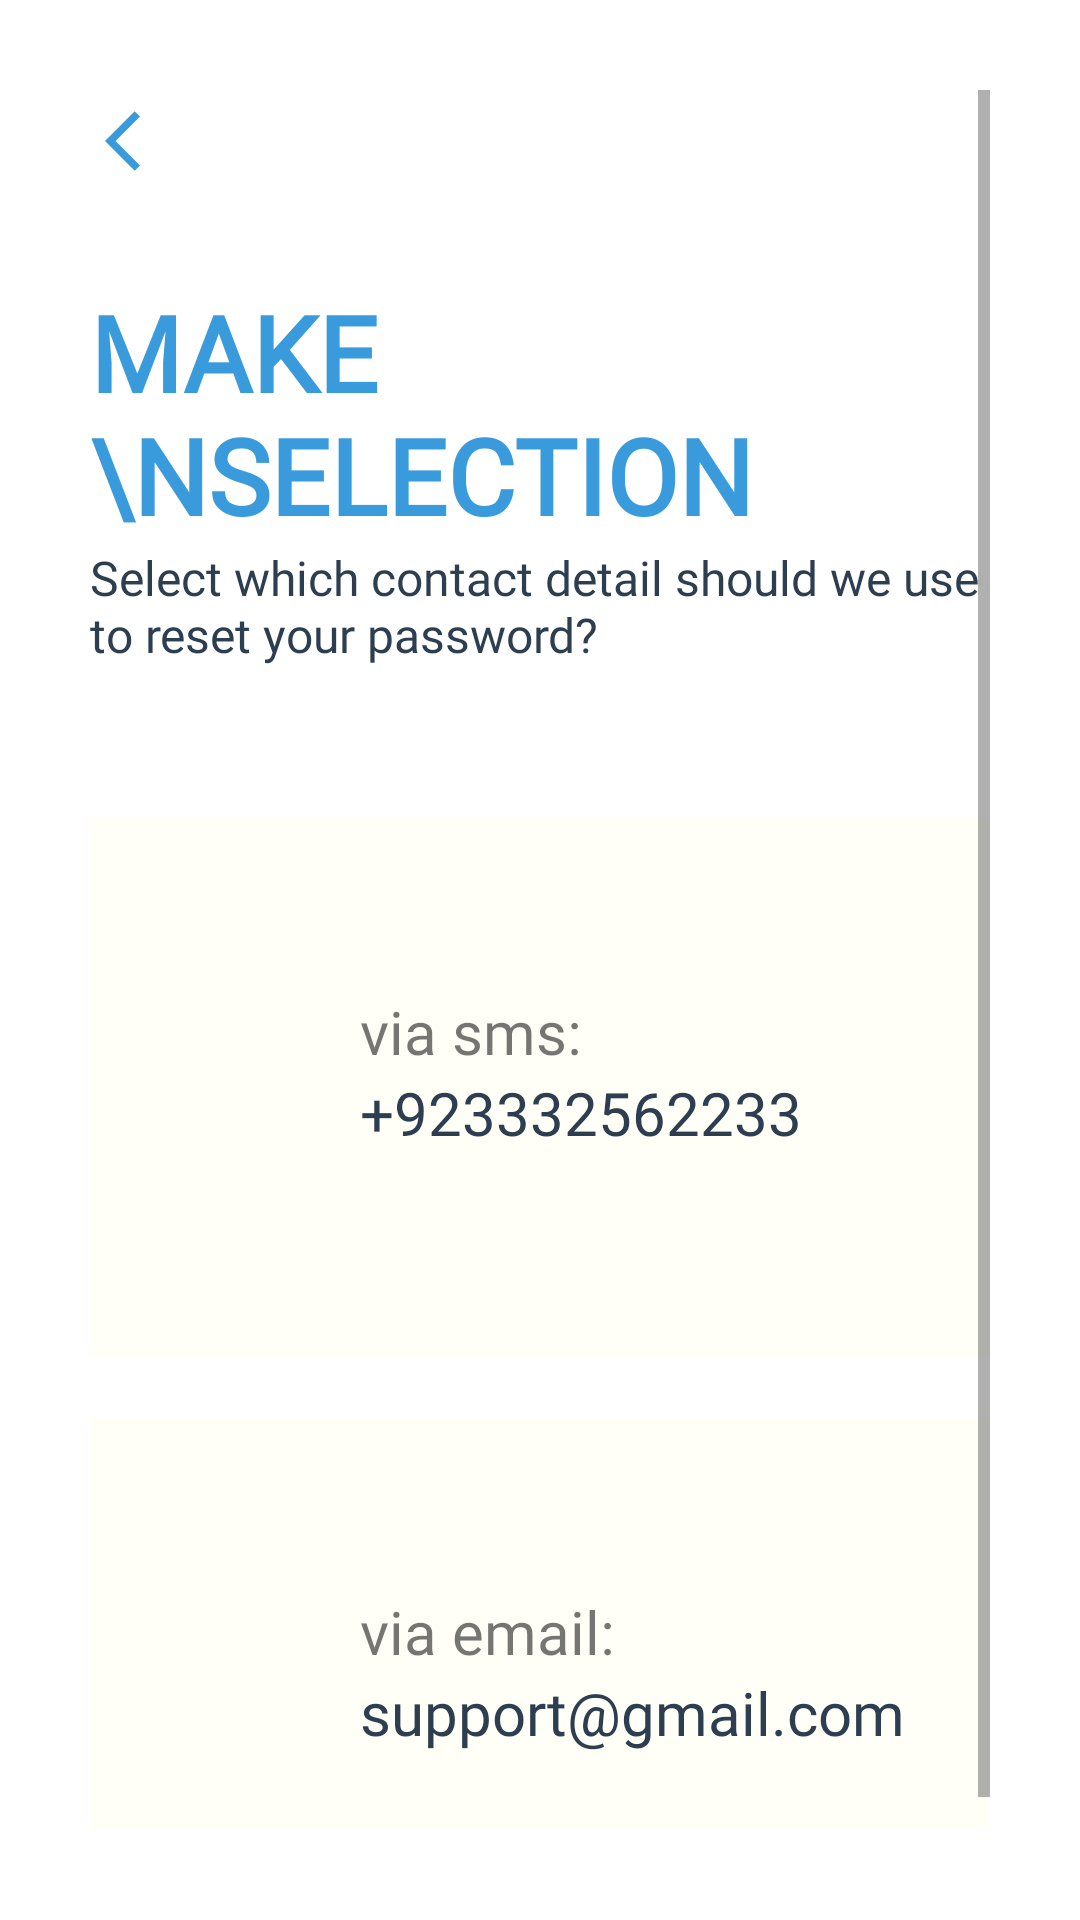

Where icons sit on this 1080×1920 app screen, as (x1,y1,x2,y2):
general back: (105,111,140,171)
